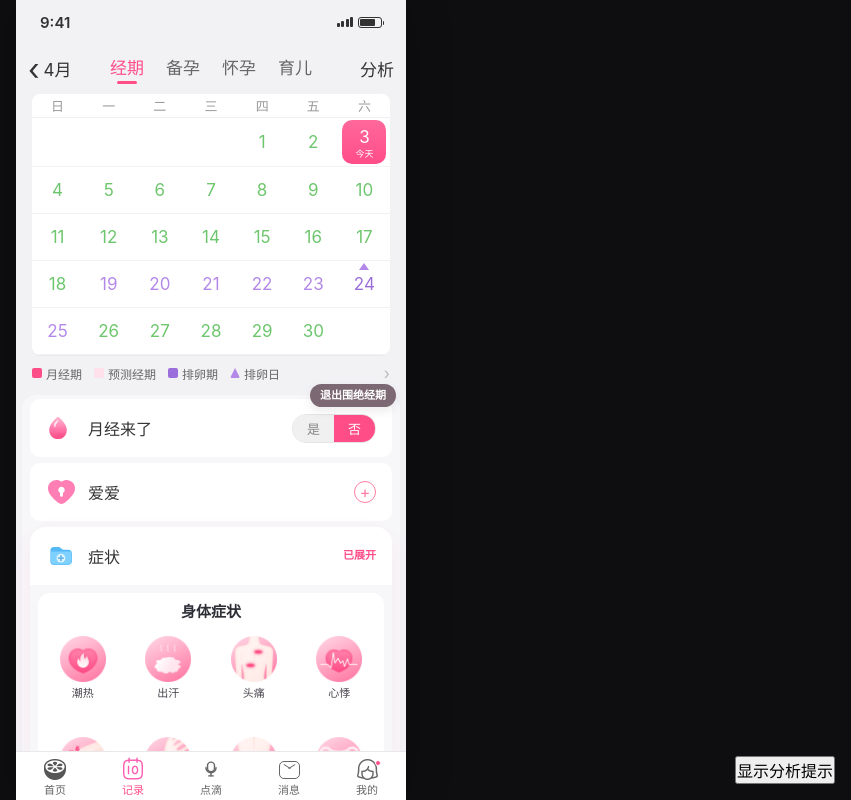
scene1 ui › shows a green check on a perimenopause symptom after tapping it
Click the button with test id "scene1-perimenopause-kmi-toggle-kmiHotFlashes". click: coordinates (83, 676)
box: [42,630,124,723]
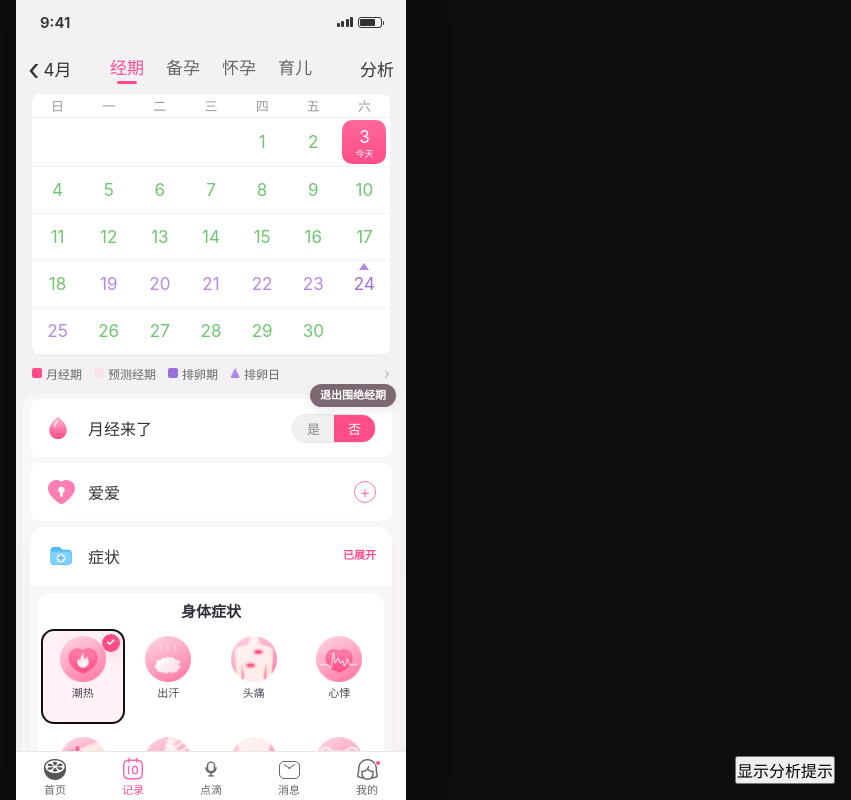
Check: the text "✓" is shown, box [102,634,120,652]
